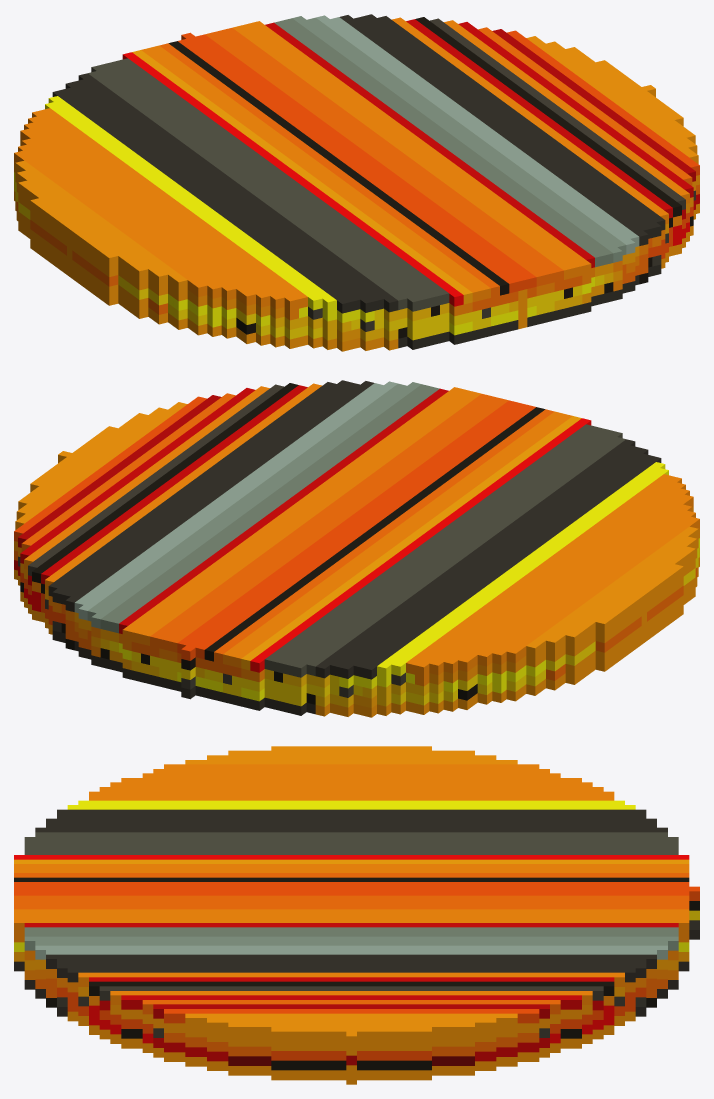
Rendered from Tai_25.obj.
3 views of the same model, one above another, from view 1: azimuth 30°, elevation 25°; view 2: azimuth 150°, elevation 25°; view 3: azimuth 270°, elevation 25° (orthographic).
Bounding box in the file's own units: 6.4 × 0.5 × 6.4.
